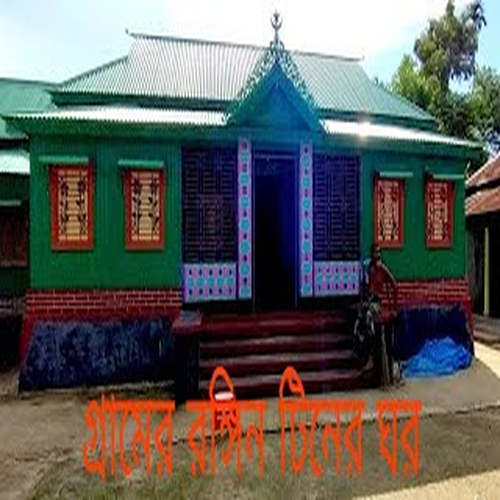Tin-shade House: (18, 37, 473, 346)
